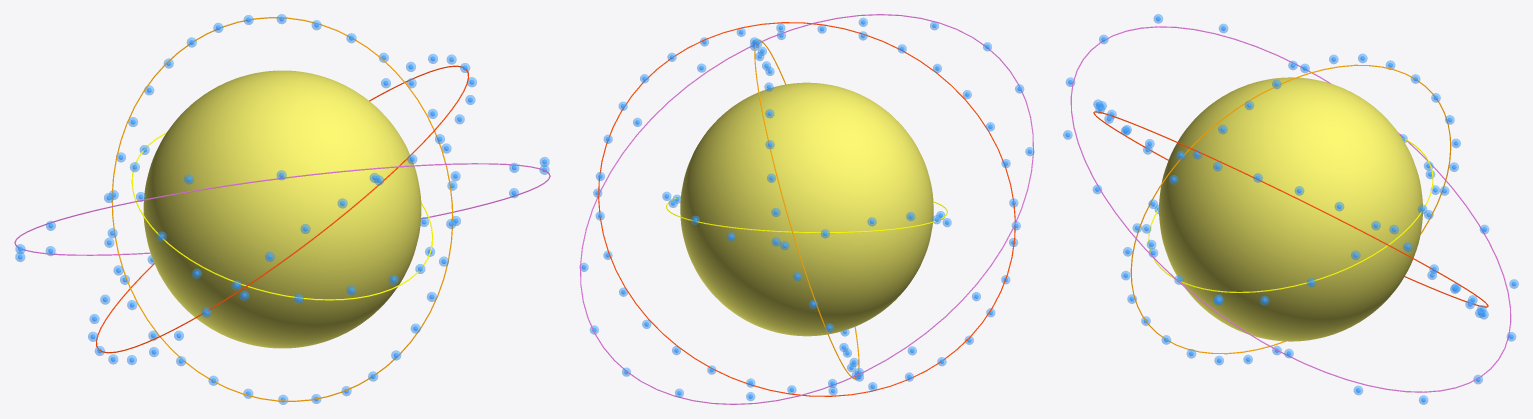
3 renders of one model, left to right at view 1: azimuth 30°, elevation 25°; view 2: azimuth 150°, elevation 25°; view 3: azimuth 270°, elevation 25°, orthographic. The views are drawn at different scales.
Visible parts, largest first — view 1: Ds, object 61, object 191, object 126, object 24; view 2: Ds, object 191, object 126, object 61, object 24; view 3: Ds, object 191, object 61, object 126, object 24.
Boxes of the visible parts, x1=… form: Ds: x1=143, y1=70, x2=421, y2=348; object 61: x1=111, y1=17, x2=453, y2=401; object 191: x1=14, y1=163, x2=550, y2=255; object 126: x1=96, y1=65, x2=468, y2=353; object 24: x1=131, y1=132, x2=433, y2=300; Ds: x1=680, y1=82, x2=933, y2=336; object 191: x1=580, y1=14, x2=1033, y2=404; object 126: x1=598, y1=22, x2=1015, y2=396; object 61: x1=754, y1=40, x2=859, y2=378; object 24: x1=666, y1=196, x2=947, y2=233; Ds: x1=1159, y1=77, x2=1422, y2=341; object 191: x1=1070, y1=26, x2=1511, y2=392; object 61: x1=1130, y1=64, x2=1451, y2=354; object 126: x1=1093, y1=111, x2=1488, y2=307; object 24: x1=1148, y1=138, x2=1433, y2=292.
Size of the model in its own units: 8.45 by 5.96 by 7.48.
